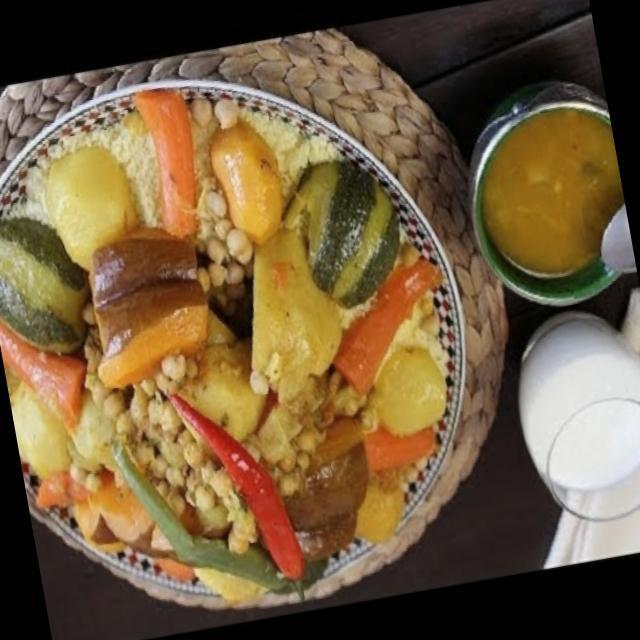Couscous: (0, 37, 499, 640)
